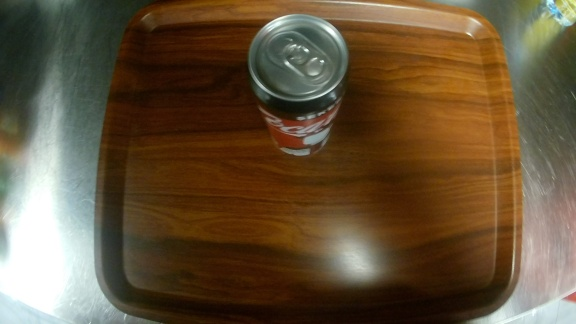kutukola: (239, 13, 353, 168)
